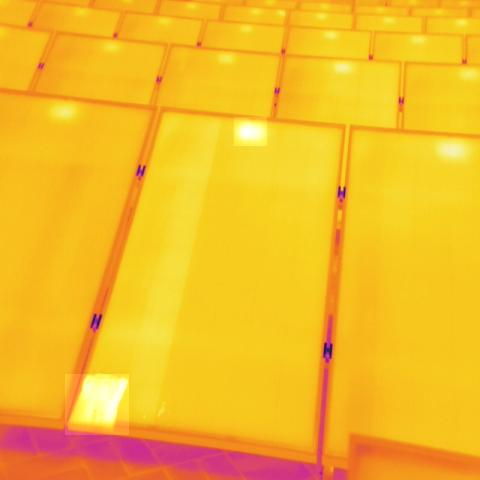fault: (65, 374, 129, 435), (234, 117, 267, 146)
